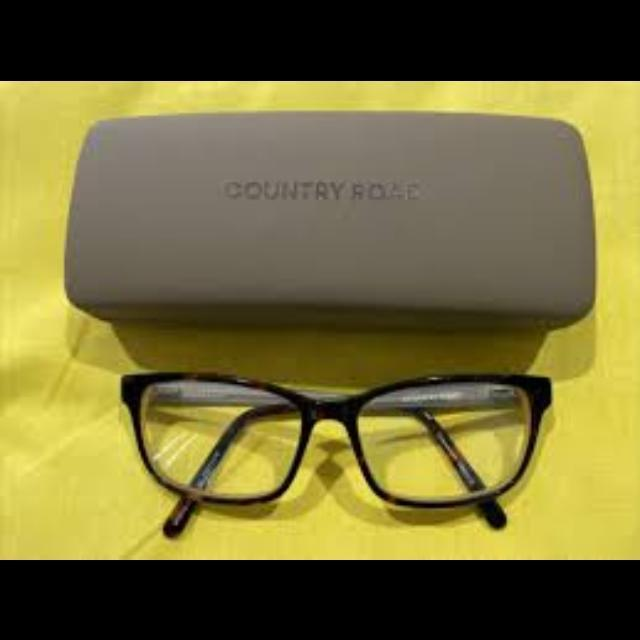glasses: (117, 370, 563, 536)
